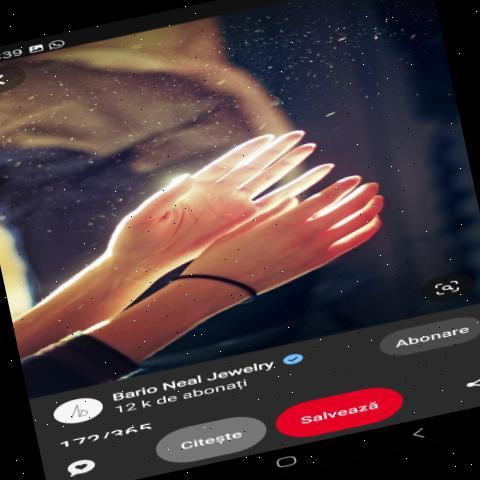Hands: (86, 79, 320, 267), (215, 171, 435, 313)
